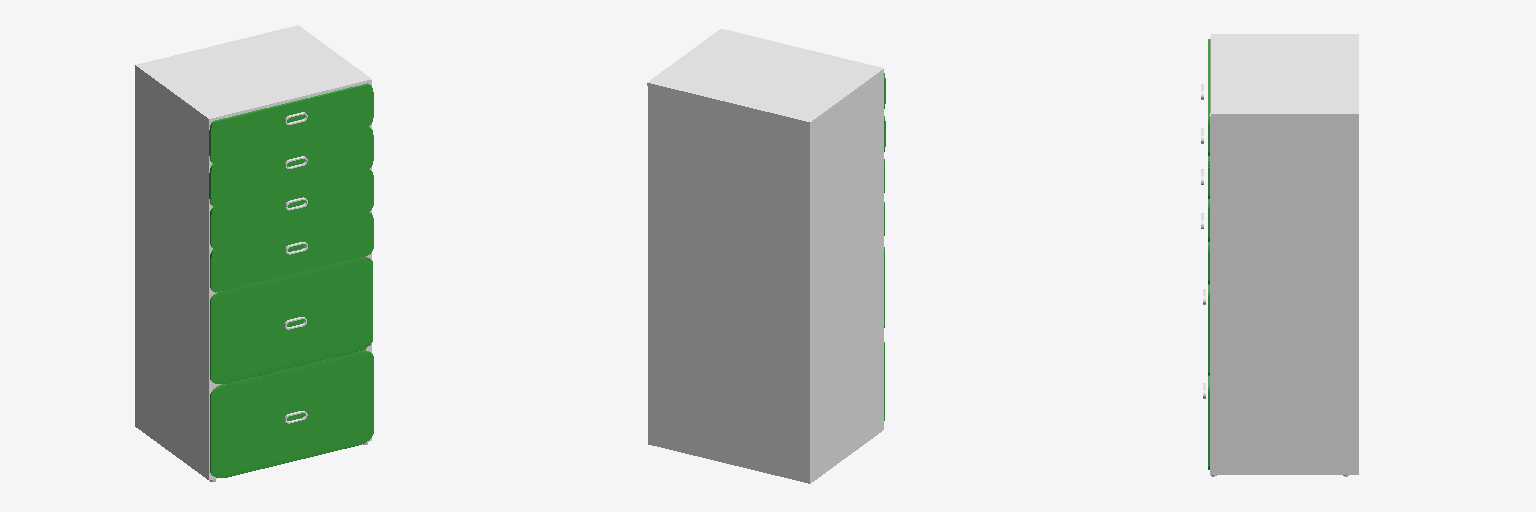
The model's file is StorageFurniture_StuvaFritidsSixDrawersGreen.obj.
The picture shows the model from 3 angles: view 1: azimuth 30°, elevation 25°; view 2: azimuth 150°, elevation 25°; view 3: azimuth 270°, elevation 25°; orthographic projection.
Parts seen in each view (by area): view 1: obj_0; view 2: obj_0; view 3: obj_0.
Boxes of the visible parts, box(x1,y1,x2,y2) form: obj_0: box(135, 25, 373, 481); obj_0: box(647, 29, 885, 483); obj_0: box(1201, 34, 1358, 476).
Bounding box in the file's own units: 60 × 128 × 50.